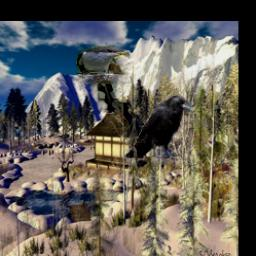Crow: (121, 93, 191, 167)
Cuckoo: (76, 46, 130, 114)
